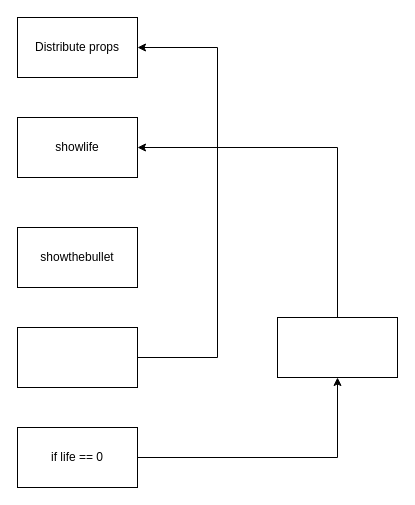
Image size: 415x505. Some labels were removed from this diagram. Each missing label, with the box of its shape:
clear props: (276, 316, 398, 378)
if gun == empty: (16, 326, 138, 388)
